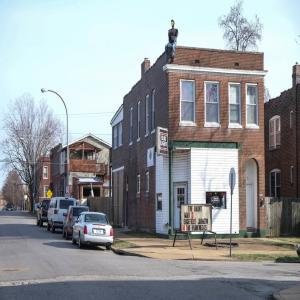Vehicle-registration-plate: (94, 229, 105, 236)
